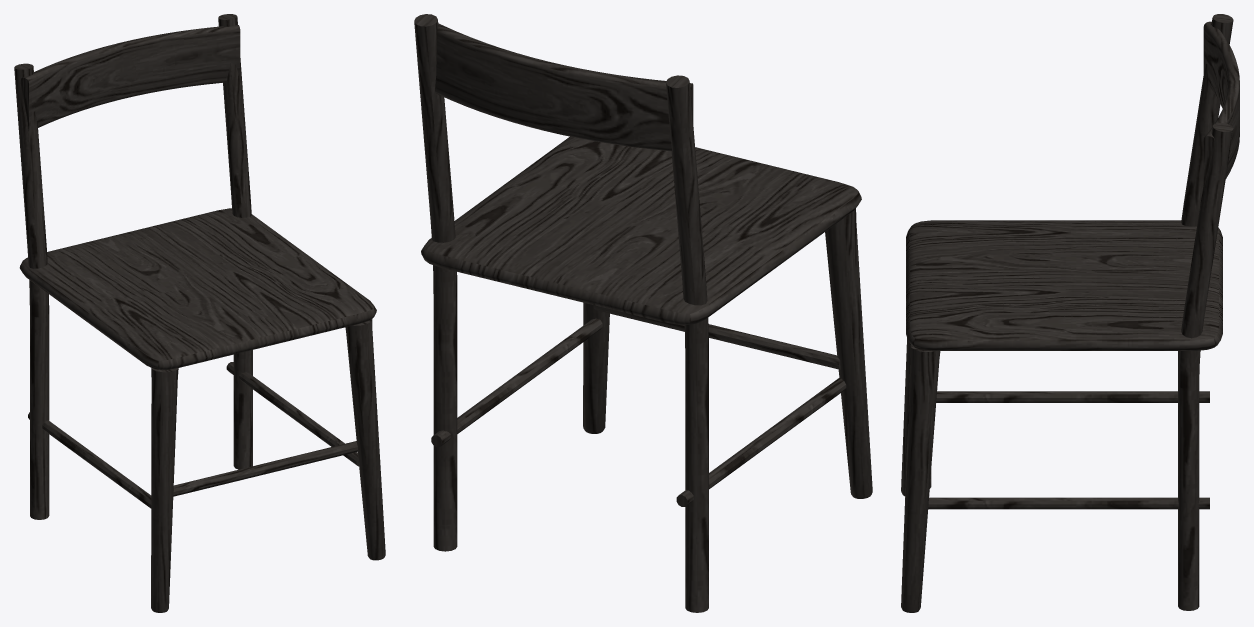
Rendered from silla_nordica_negra.glb.
3 renders of one model, left to right at view 1: azimuth 30°, elevation 25°; view 2: azimuth 150°, elevation 25°; view 3: azimuth 270°, elevation 25°, orthographic. The views are drawn at different scales.
Parts seen in each view (by area): view 1: silla_nordica_negra; view 2: silla_nordica_negra; view 3: silla_nordica_negra.
Part boxes in pixels (x1,y1,x2,y2): silla_nordica_negra: (14, 14, 385, 612); silla_nordica_negra: (414, 14, 872, 612); silla_nordica_negra: (901, 14, 1239, 612).
Size of the model in its own units: 0.4446 by 0.8026 by 0.5129.
Materials: 1 (1 with a texture image).
